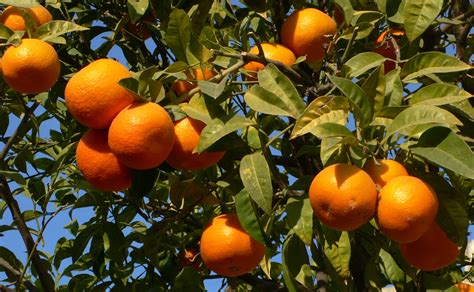orange: (106, 98, 178, 177), (64, 58, 137, 129), (374, 168, 440, 244), (309, 162, 377, 232), (200, 212, 269, 277), (1, 38, 62, 96)
